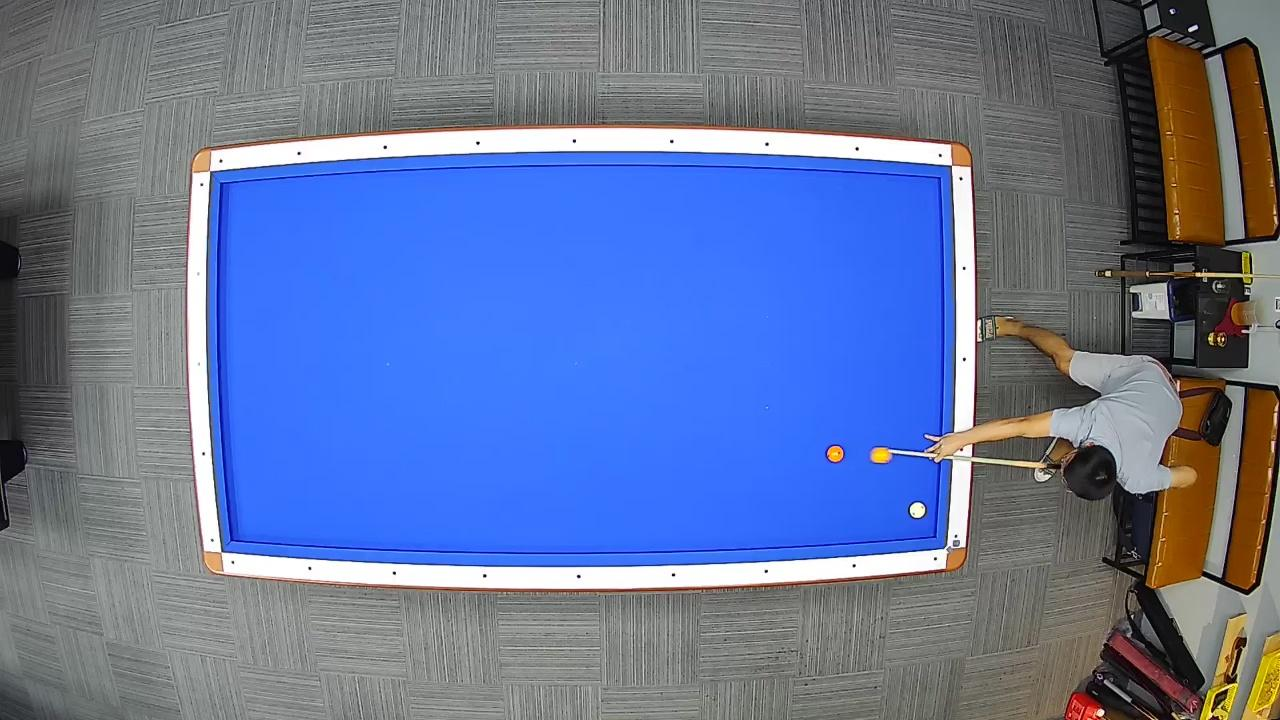Orange: (824, 444, 845, 464)
White: (908, 501, 927, 520)
Yellow: (870, 444, 894, 464)
